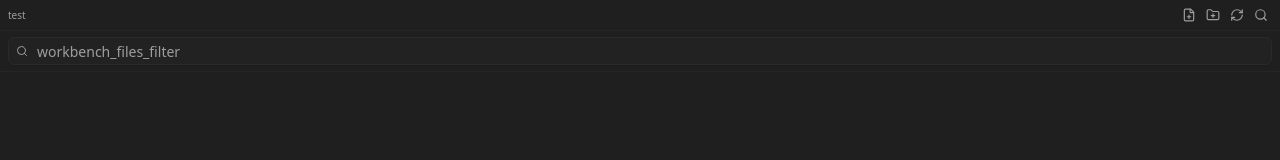
Scenario: FilesTab — busca em conteúdo › fechar a busca (toggle novamente) limpa query e resultados
The width and height of the screenshot is (1280, 160).
Click the button named "tooltip_files_search": (1261, 15) [1250,4,1272,26]
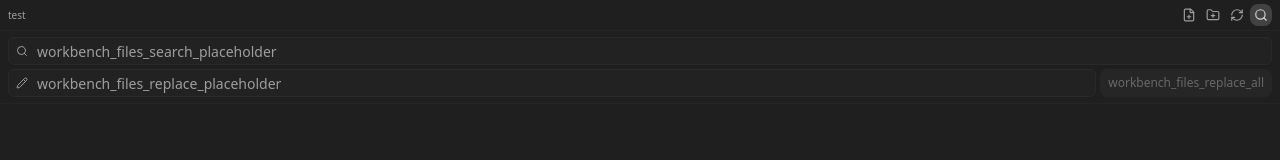
In the search field with placeholder "workbench_files_search_placeholder": (640, 51) [8,37,1272,65], type "foo"
Wait 350 ms
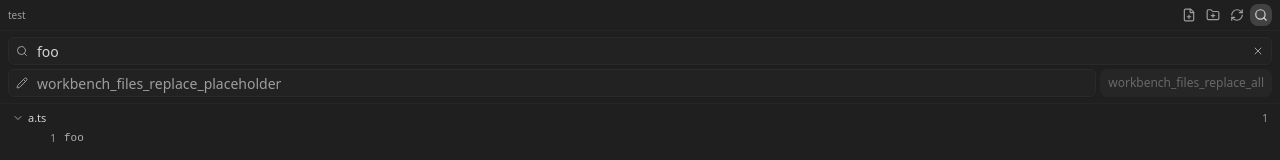
Result: the text "a.ts" is shown at [28,110,46,125]
Click the button named "tooltip_files_search": (1261, 15) [1250,4,1272,26]
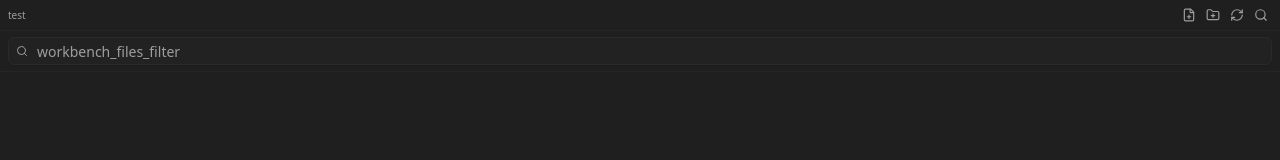
Expected: the field with placeholder "workbench_files_search_placeholder" is not shown
Result: the button "a.ts" is gone
